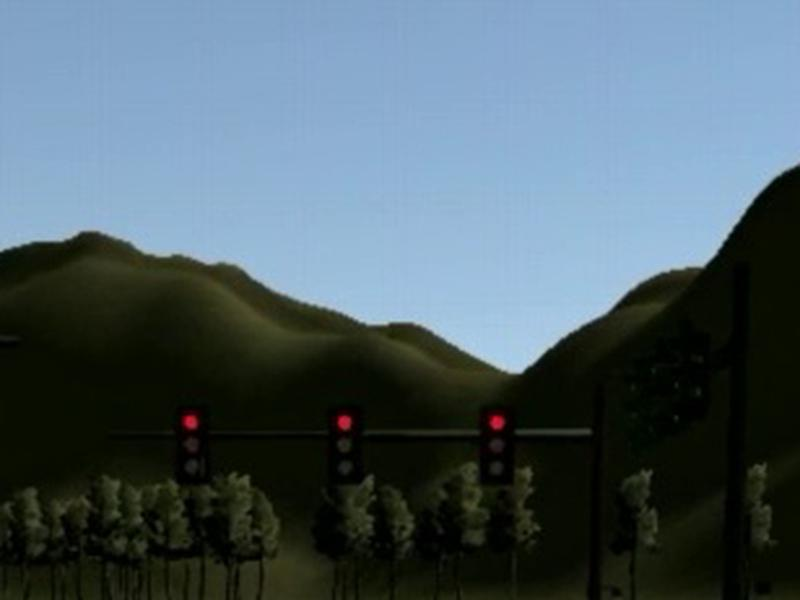Red: (172, 406, 208, 487), (480, 407, 515, 488), (326, 407, 363, 483)
